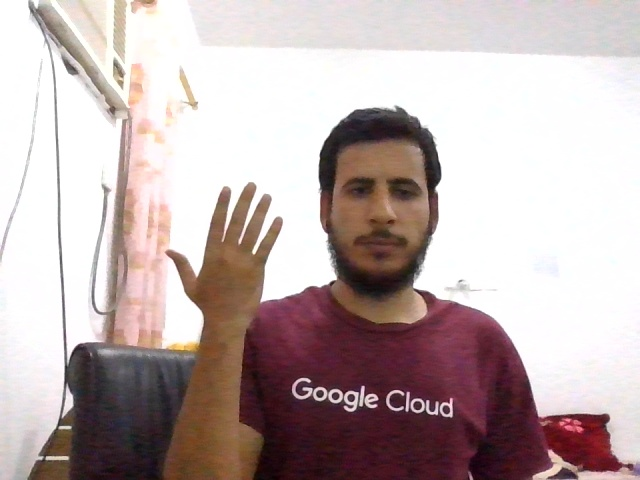Five: (164, 182, 283, 321)
